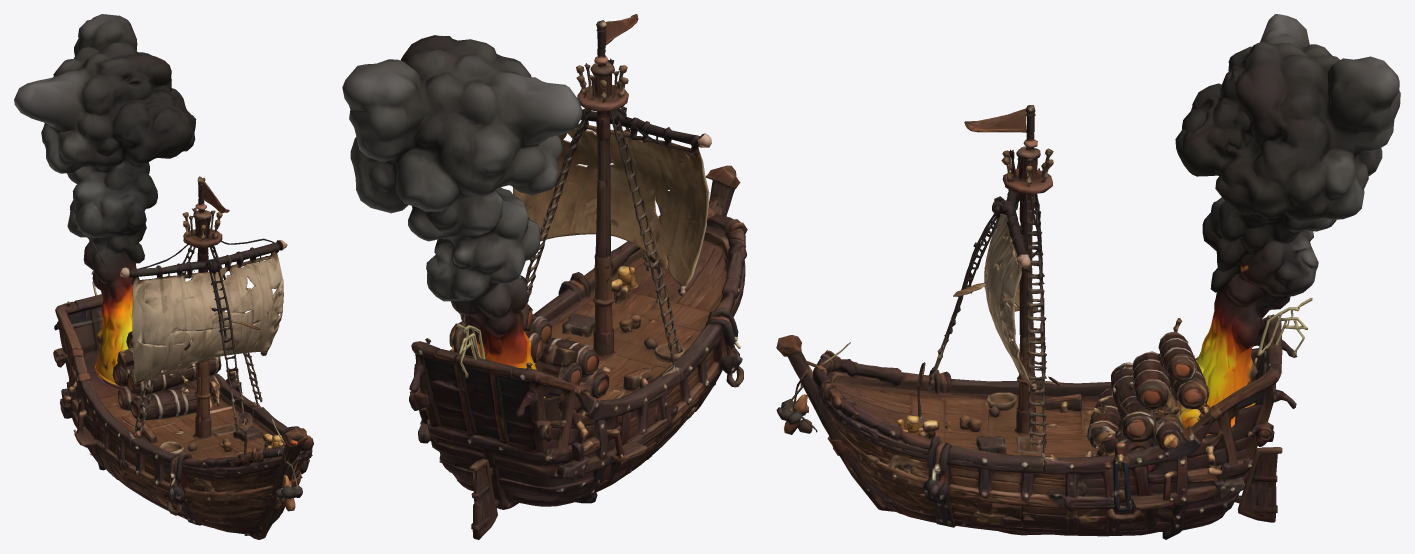
Rendered from barco-brulote.glb.
3 views of the same model, side by side, from view 1: azimuth 30°, elevation 25°; view 2: azimuth 150°, elevation 25°; view 3: azimuth 270°, elevation 25° (orthographic). The views are drawn at different scales.
Size of the model in its own units: 0.3844 by 0.8336 by 0.9789.
1 material, 1 textured.
